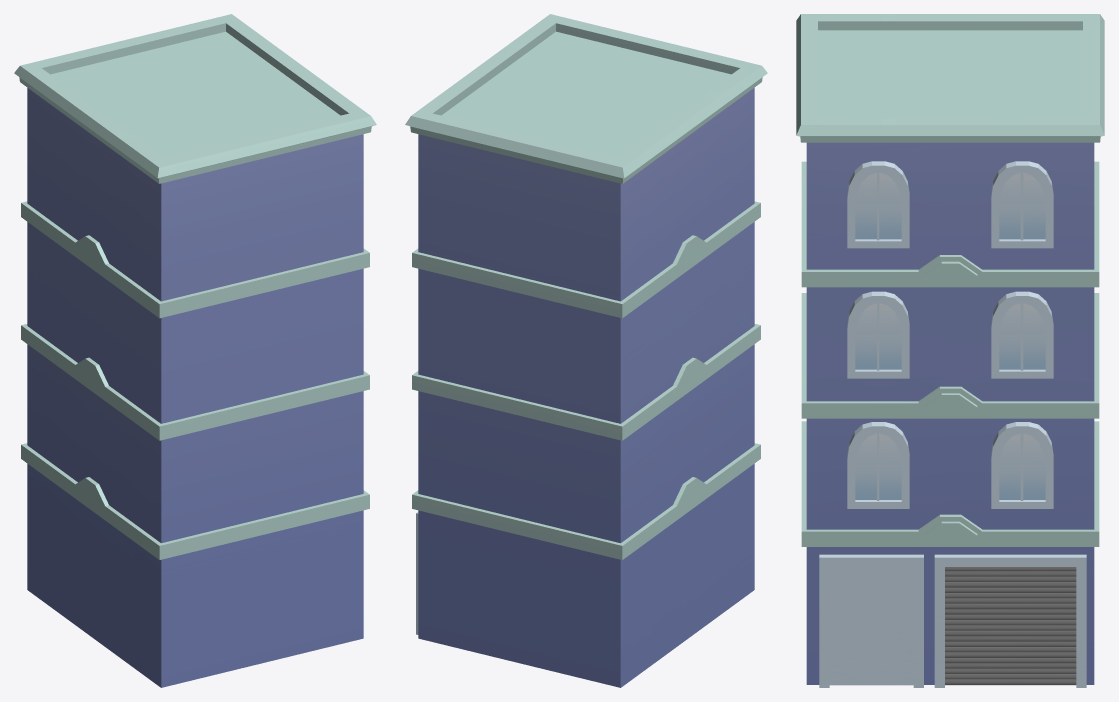
The model's file is Gebeude_4.glb.
3 views of the same model, side by side, from view 1: azimuth 30°, elevation 25°; view 2: azimuth 150°, elevation 25°; view 3: azimuth 270°, elevation 25° (orthographic). The views are drawn at different scales.
Visible parts, largest first — view 1: Haus4; view 2: Haus4; view 3: Haus4.
Part boxes in pixels (x1,y1,x2,y2): Haus4: (14,14,376,687); Haus4: (405,14,767,687); Haus4: (796,14,1104,687).
Bounding box in the file's own units: 5.4 × 12.31 × 6.12.
1 material, 1 textured.
